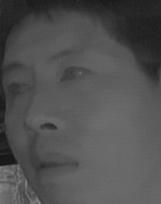eye: (56, 64, 92, 88), (3, 79, 31, 99)
mouth: (26, 148, 81, 184)
